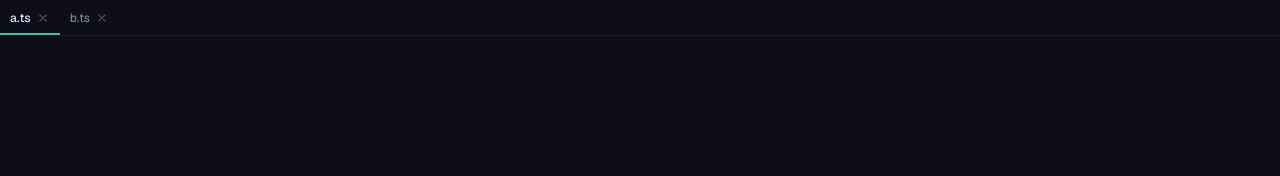
Test: EditorTabs › 第一个标签右键时不应显示关闭左侧所有
The image size is (1280, 176).
Step 1. Right-click the tab with test id "editor-tab-/src/a.ts" → (30, 18), box [0, 0, 60, 35]
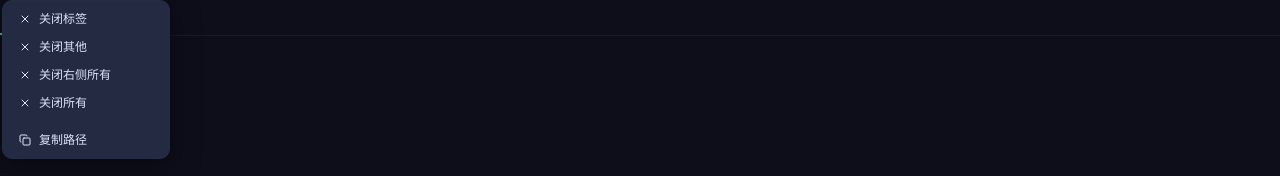
Expected: the menu item "关闭标签" is shown, [19, 11, 87, 27]
Expected: the menu item "关闭右侧所有" is shown, [19, 67, 111, 83]
